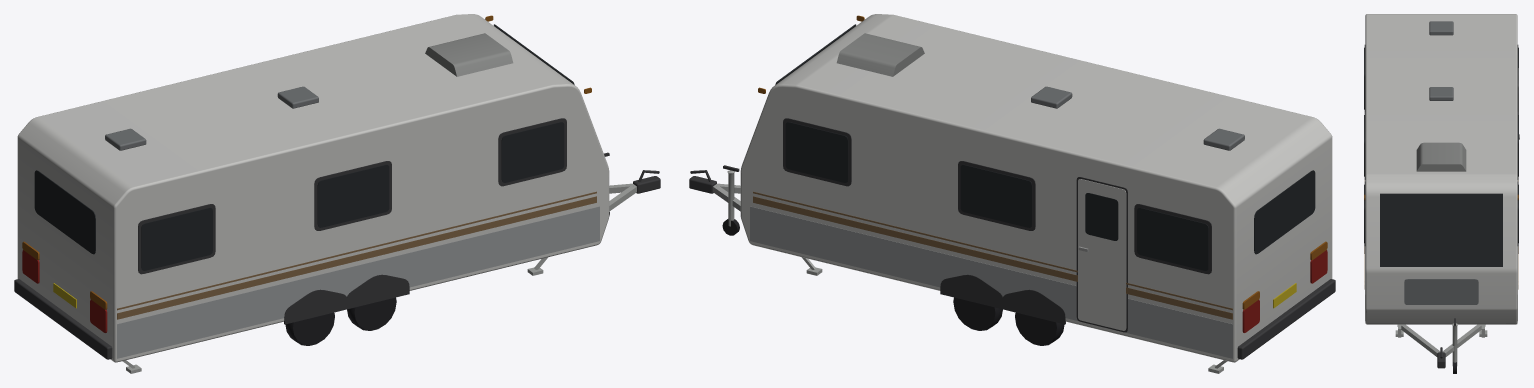
The model's file is SM_Prop_touring_caravan_1.glb.
3 renders of one model, left to right at view 1: azimuth 30°, elevation 25°; view 2: azimuth 150°, elevation 25°; view 3: azimuth 270°, elevation 25°, orthographic. The views are drawn at different scales.
Parts seen in each view (by area): view 1: SM_Prop_touring_caravan_1; view 2: SM_Prop_touring_caravan_1; view 3: SM_Prop_touring_caravan_1.
Part boxes in pixels (<box>): SM_Prop_touring_caravan_1: <box>14,14,660,373</box>; SM_Prop_touring_caravan_1: <box>689,14,1335,373</box>; SM_Prop_touring_caravan_1: <box>1364,14,1519,373</box>.
Size of the model in its own units: 7.98 by 2.72 by 2.31.
